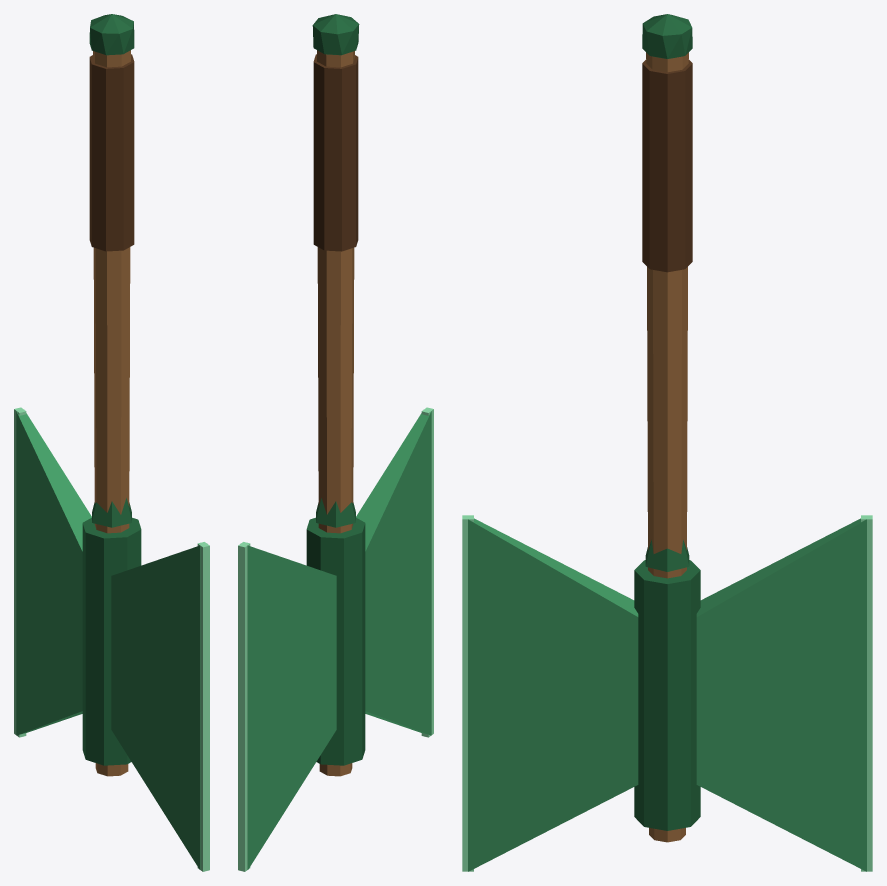
The model's file is held_adamant_axe.glb.
The picture shows the model from 3 angles, left to right: view 1: azimuth 30°, elevation 25°; view 2: azimuth 150°, elevation 25°; view 3: azimuth 270°, elevation 25°; orthographic projection. The views are drawn at different scales.
Parts seen in each view (by area): view 1: held_adamant_axe; view 2: held_adamant_axe; view 3: held_adamant_axe.
Part boxes in pixels (x1=…): held_adamant_axe: x1=14, y1=14, x2=209, y2=871; held_adamant_axe: x1=238, y1=14, x2=433, y2=871; held_adamant_axe: x1=462, y1=14, x2=872, y2=871.
Size of the model in its own units: 0.068 by 0.971 by 0.422.
